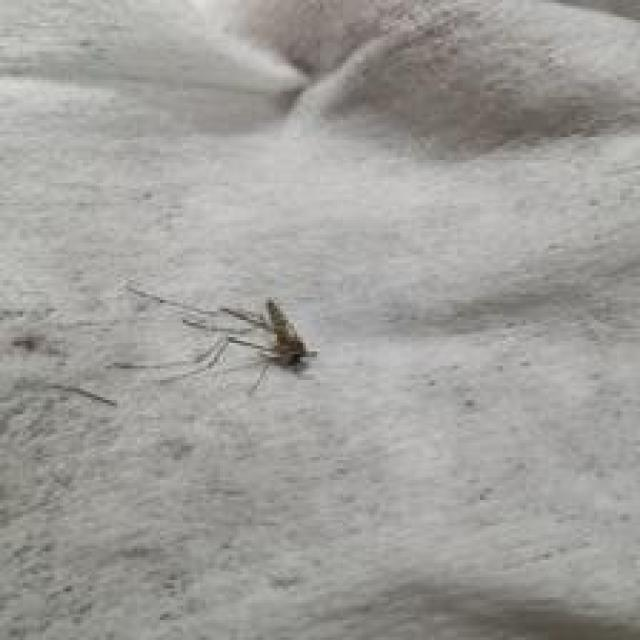Culex: (111, 283, 320, 397)
